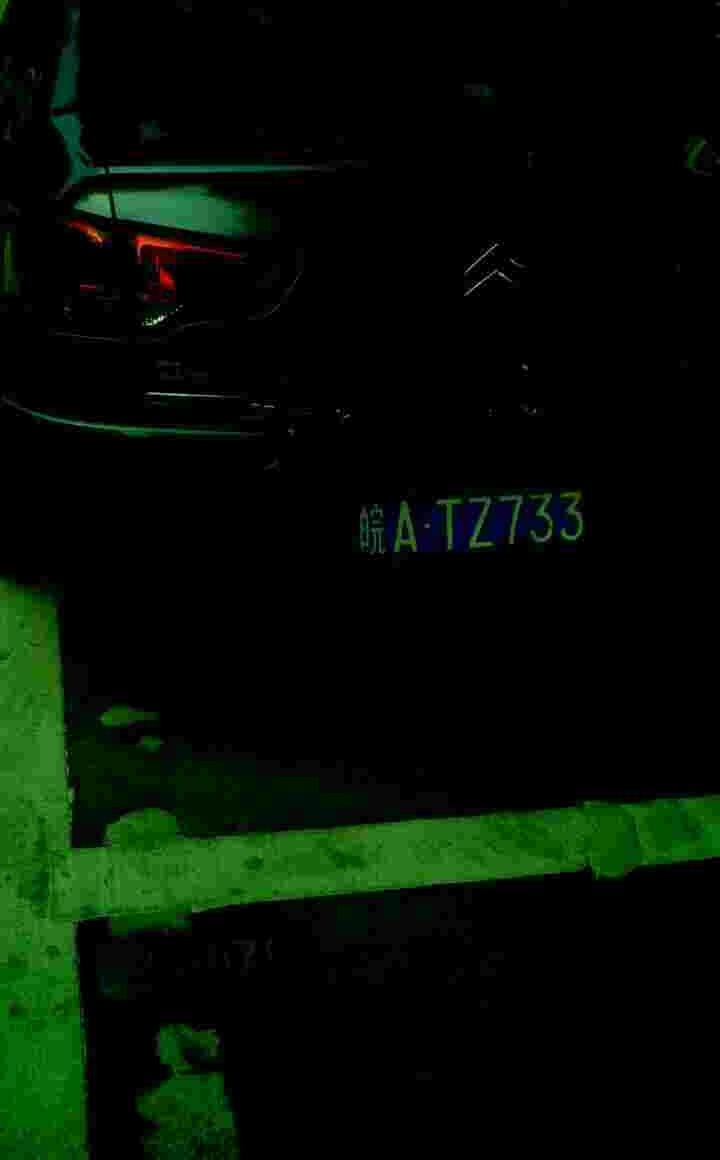license_plate: (356, 491, 610, 559)
